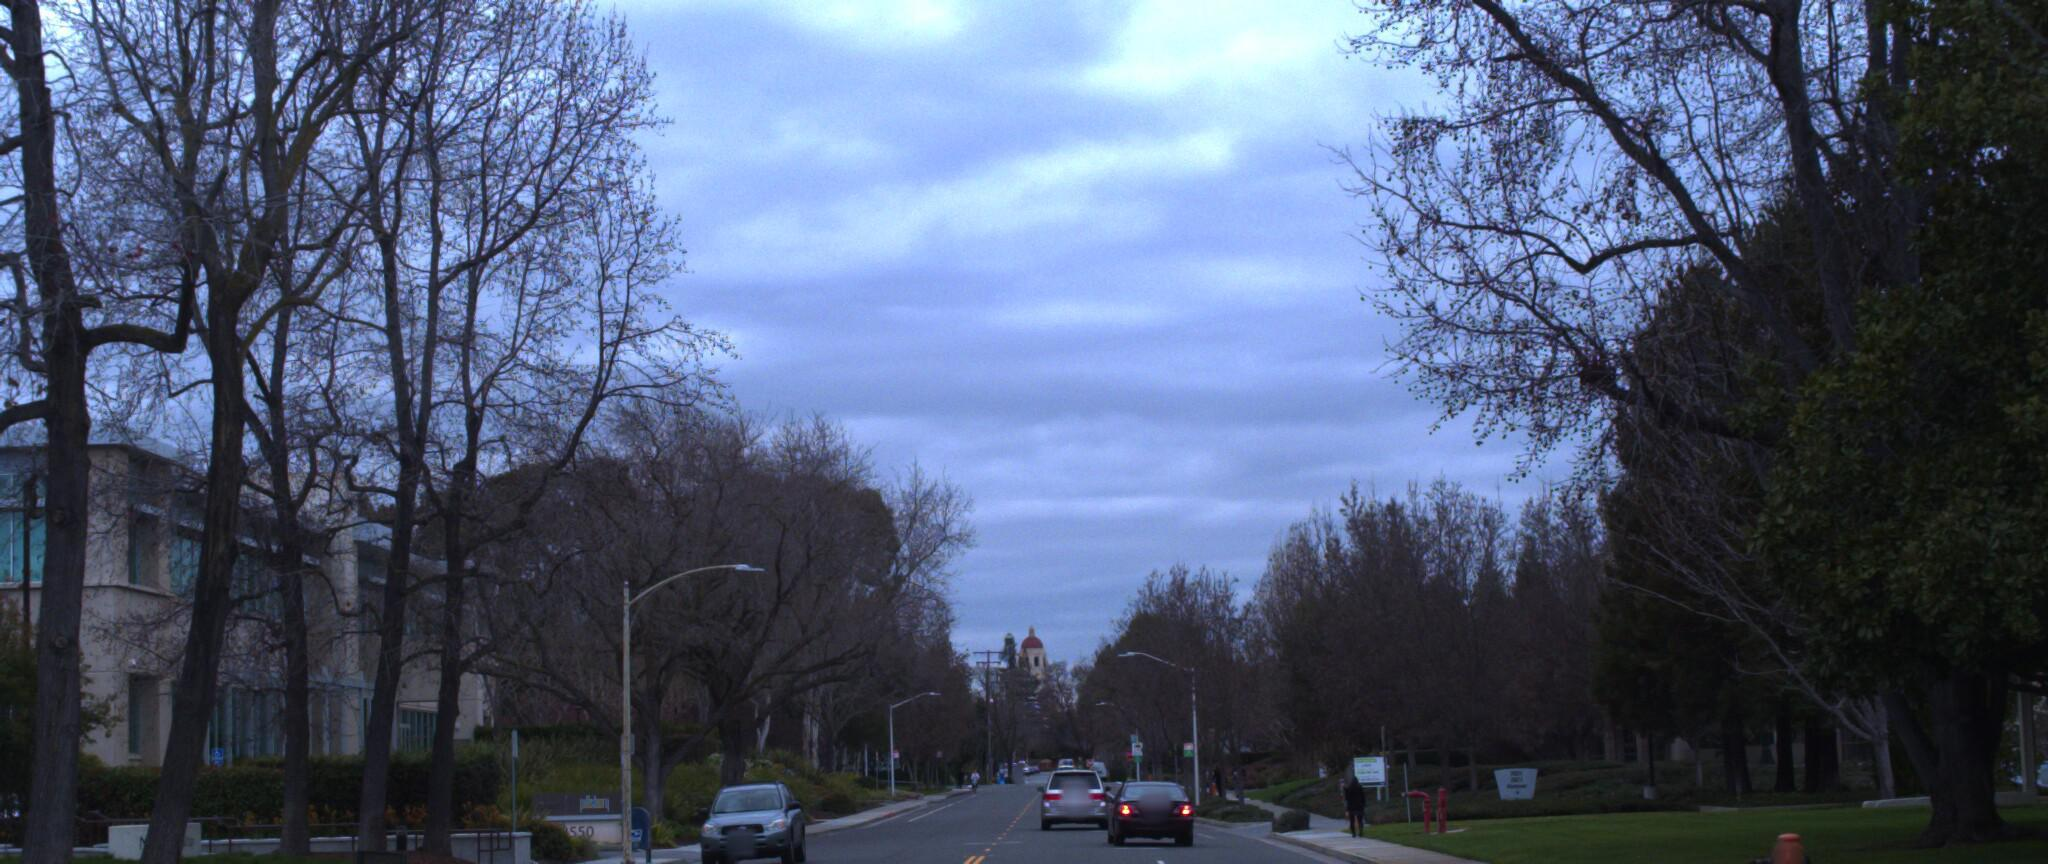car: (680, 783, 812, 864), (1098, 774, 1194, 846)
